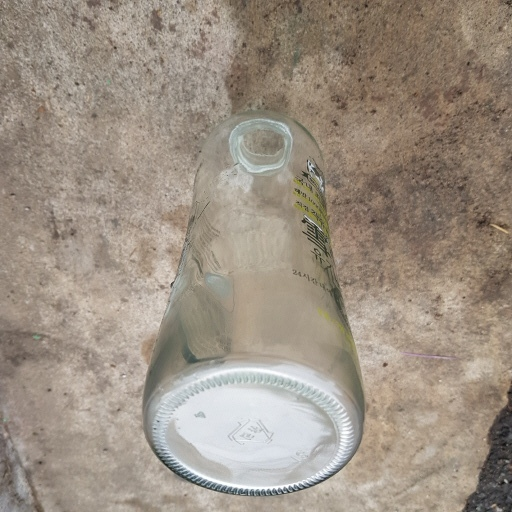Glass_4: (140, 97, 368, 495)
